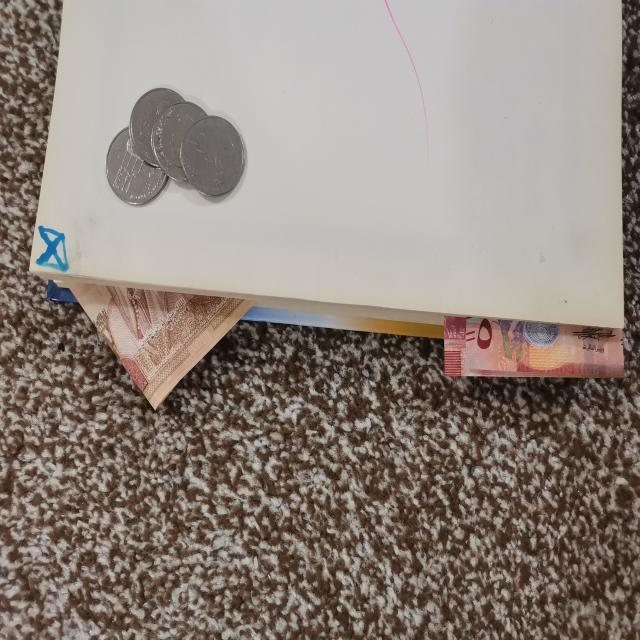5-coins: (179, 115, 246, 198), (105, 125, 172, 205), (151, 100, 214, 184), (130, 87, 190, 167)
5-dinar: (42, 280, 270, 412), (440, 313, 628, 384)
